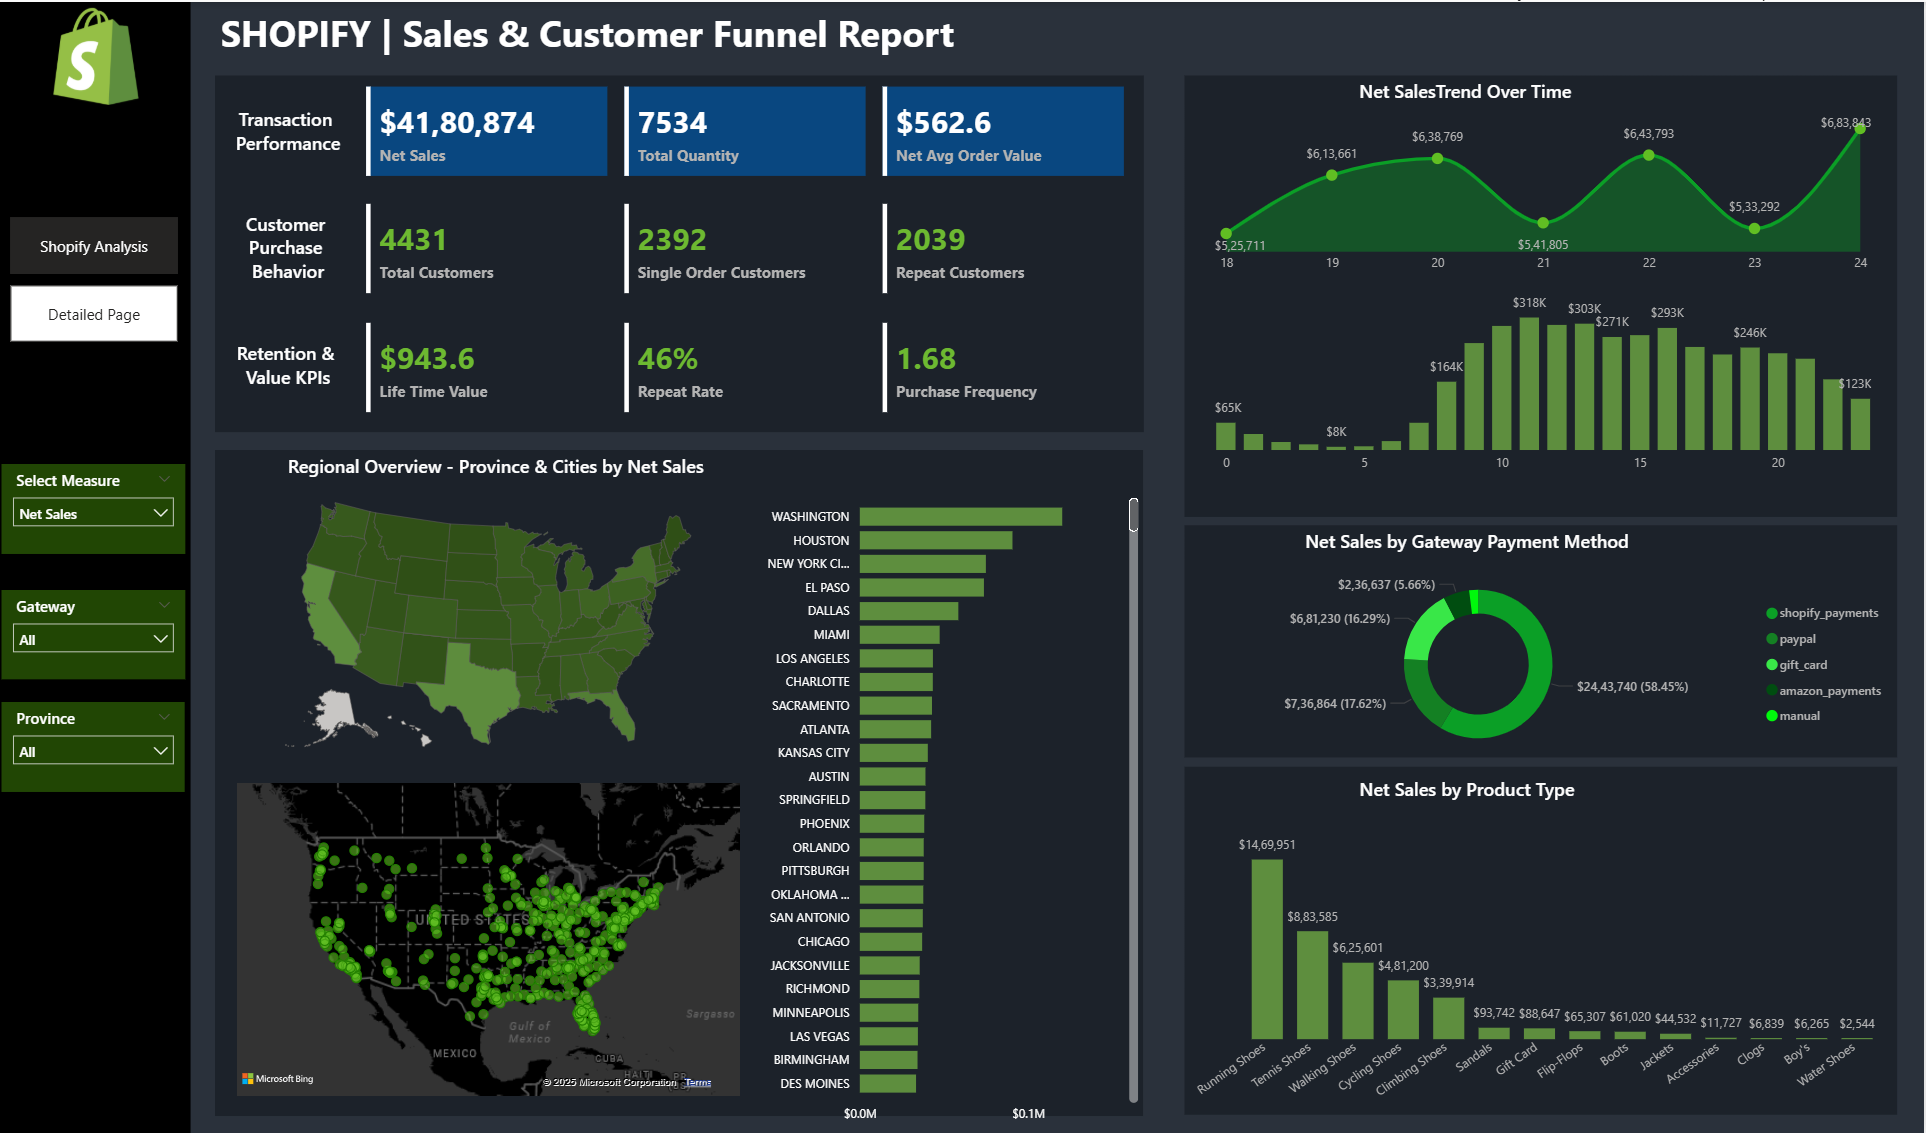

What the dashboard file says about the page in this screenshot:
{"tool":"powerbi","page":{"name":"Shopify Analysis","canvas":[1700,1000],"ordinal":0},"visuals":[{"type":"shape","box":[0,0,170,1000.9],"z":0},{"type":"textbox","box":[191.5,0,692.9,65.1],"z":1000},{"type":"shape","box":[191,65,820,315],"z":2000},{"type":"cardVisual","fields":{"Data":["shopify_sales.Net Sales","shopify_sales.Total Quantity","shopify_sales.Net Avg Order Value"]},"box":[320.5,69.4,680.6,89.2],"z":3000},{"type":"card","fields":{"Values":["shopify_sales.Transaction Perf"]},"box":[191.6,79.3,128.8,69.4],"z":4000},{"type":"cardVisual","fields":{"Data":["shopify_sales.Total Customers","shopify_sales.Single Order Customers","shopify_sales.Repeat Customers"]},"box":[320.5,173.4,680.6,89.2],"z":5000},{"type":"card","fields":{"Values":["shopify_sales.Customer Purchase Behavior"]},"box":[191.6,171,128.8,84.2],"z":6000},{"type":"cardVisual","fields":{"Data":["shopify_sales.Life Time Value","shopify_sales.Repeat Rate","shopify_sales.Purchase Frequency"]},"box":[320.5,277.5,680.6,89.2],"z":7000},{"type":"card","fields":{"Values":["shopify_sales.Retention & Value KPIs"]},"box":[191.6,277.5,128.8,84.2],"z":8000},{"type":"shape","box":[191.6,394.8,819.3,588.1],"z":9000},{"type":"shapeMap","fields":{"Value":["shopify_sales.Net Sales"],"Category":["shopify_sales.Billing Address Province"]},"box":[204.8,424.5,454.3,249.4],"z":10000},{"type":"slicer","fields":{"Values":["Select Measure.Select Measure"]},"box":[3.3,408,162,79.3],"z":11000},{"type":"map","fields":{"Category":["shopify_sales.Location"]},"box":[204.8,683.9,454.3,285.8],"z":12000},{"type":"clusteredBarChart","fields":{"Y":["shopify_sales.Net Sales"],"Category":["shopify_sales.CITY"]},"box":[659.1,424.5,351.8,574.8],"z":13000},{"type":"card","fields":{"Values":["shopify_sales.Map Title"]},"box":[191.6,394.8,495.6,32],"z":14000},{"type":"shape","box":[1047.3,64.4,629.4,389.8],"z":15000},{"type":"areaChart","fields":{"Y":["shopify_sales.Net Sales"],"Category":["shopify_sales.Invoice Date.Variation.Date Hierarchy.Day"]},"box":[1068.8,87.5,589.7,160.2],"z":16000},{"type":"columnChart","fields":{"Y":["shopify_sales.Net Sales"],"Category":["shopify_sales.Hour"]},"box":[1068.8,241.2,589.7,183.4],"z":17000},{"type":"card","fields":{"Values":["shopify_sales.Trend Title"]},"box":[1047.3,64.4,495.6,31.4],"z":18000},{"type":"shape","box":[1047.3,462.5,629.4,205],"z":19000},{"type":"donutChart","fields":{"Y":["shopify_sales.Net Sales"],"Category":["shopify_sales.Gateway"]},"box":[1047.3,495.6,629.4,176.7],"z":20000},{"type":"card","fields":{"Values":["shopify_sales.Gateway Title"]},"box":[1048.9,462.5,495.6,31.4],"z":21000},{"type":"shape","box":[1047.3,675.6,629.4,307.2],"z":22000},{"type":"columnChart","fields":{"Y":["shopify_sales.Net Sales"],"Category":["shopify_sales.Product Type"]},"box":[1053.9,716.9,622.8,262.6],"z":23000},{"type":"card","fields":{"Values":["shopify_sales.Product Title"]},"box":[1048.9,680.6,495.6,31.4],"z":24000},{"type":"image","box":[18.2,0,135.5,95.8],"z":25000},{"type":"slicer","fields":{"Values":["shopify_sales.Gateway"]},"box":[3.3,518.7,162,79],"z":26000},{"type":"slicer","fields":{"Values":["shopify_sales.Billing Address Province"]},"box":[3.3,617.8,161.9,79.3],"z":27000},{"type":"pageNavigator","box":[11.6,190,148.7,110.7],"z":27001}]}

Visuals, with their boxes on the page's 1700x1000 design canvas (x1, y1, x2, y2). These are canvas units, not pixel positions in the 1926x1133 screenshot, which may show the page scaled, cropped or inside an application window:
shape: 0/0/170/1001
textbox: 192/0/884/65
shape: 191/65/1011/380
cardVisual - shopify_sales.Net Sales x shopify_sales.Total Quantity: 320/69/1001/159
card - shopify_sales.Transaction Perf: 192/79/320/149
cardVisual - shopify_sales.Total Customers x shopify_sales.Single Order Customers: 320/173/1001/263
card - shopify_sales.Customer Purchase Behavior: 192/171/320/255
cardVisual - shopify_sales.Life Time Value x shopify_sales.Repeat Rate: 320/278/1001/367
card - shopify_sales.Retention & Value KPIs: 192/278/320/362
shape: 192/395/1011/983
shapeMap - shopify_sales.Net Sales x shopify_sales.Billing Address Province: 205/424/659/674
slicer - Select Measure.Select Measure: 3/408/165/487
map - shopify_sales.Location: 205/684/659/970
clusteredBarChart - shopify_sales.Net Sales x shopify_sales.CITY: 659/424/1011/999
card - shopify_sales.Map Title: 192/395/687/427
shape: 1047/64/1677/454
areaChart - shopify_sales.Net Sales x shopify_sales.Invoice Date.Variation.Date Hierarchy.Day: 1069/88/1658/248
columnChart - shopify_sales.Net Sales x shopify_sales.Hour: 1069/241/1658/425
card - shopify_sales.Trend Title: 1047/64/1543/96
shape: 1047/462/1677/668
donutChart - shopify_sales.Net Sales x shopify_sales.Gateway: 1047/496/1677/672
card - shopify_sales.Gateway Title: 1049/462/1544/494
shape: 1047/676/1677/983
columnChart - shopify_sales.Net Sales x shopify_sales.Product Type: 1054/717/1677/980
card - shopify_sales.Product Title: 1049/681/1544/712
image: 18/0/154/96
slicer - shopify_sales.Gateway: 3/519/165/598
slicer - shopify_sales.Billing Address Province: 3/618/165/697
pageNavigator: 12/190/160/301
